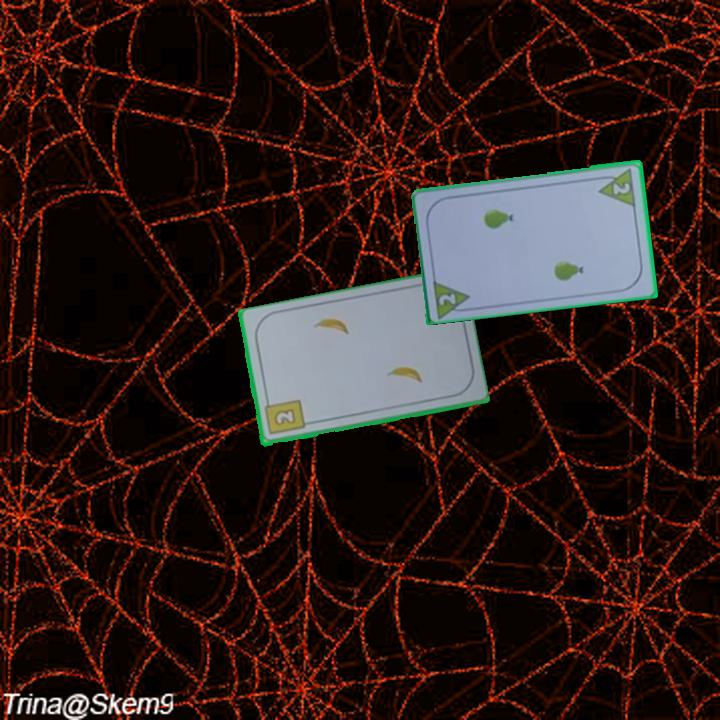2b: (260, 396, 307, 438)
2p: (594, 164, 639, 209), (435, 290, 459, 308)
